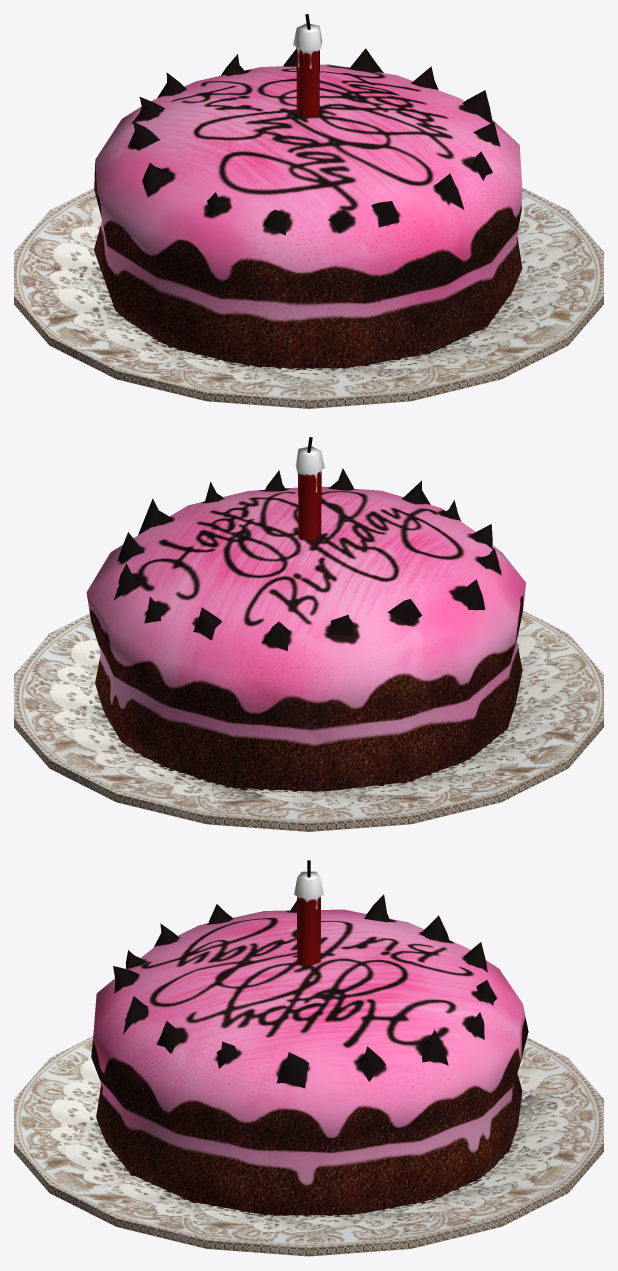
3 views of the same model, one above another, from view 1: azimuth 30°, elevation 25°; view 2: azimuth 150°, elevation 25°; view 3: azimuth 270°, elevation 25° (orthographic).
Parts seen in each view (by area): view 1: Cake_lambert1_0; view 2: Cake_lambert1_0; view 3: Cake_lambert1_0.
Part boxes in pixels (bbox=[...]): Cake_lambert1_0: bbox=[14, 14, 603, 408]; Cake_lambert1_0: bbox=[14, 437, 603, 831]; Cake_lambert1_0: bbox=[14, 860, 603, 1256].
Size of the model in its own units: 31.04 by 15.95 by 30.57.
1 material, 1 textured.
